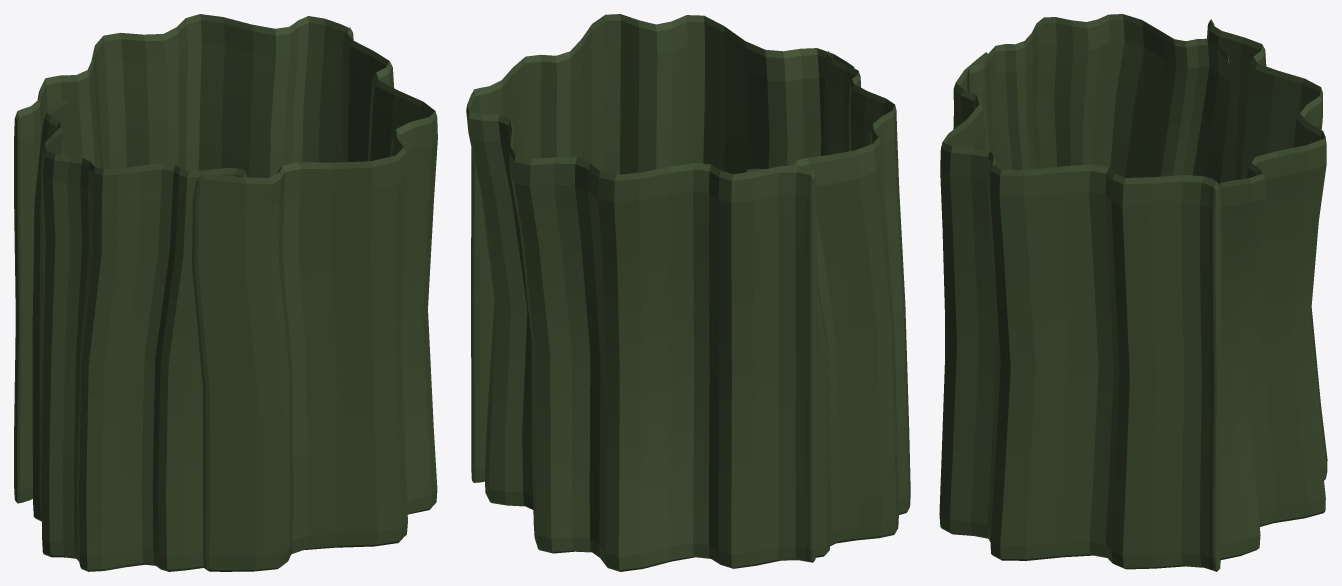
Rendered from CurvedCourigatedSteel.fbx.
The picture shows the model from 3 angles, left to right: view 1: azimuth 30°, elevation 25°; view 2: azimuth 150°, elevation 25°; view 3: azimuth 270°, elevation 25°; orthographic projection.
Parts seen in each view (by area): view 1: Curved Courigated Steel; view 2: Curved Courigated Steel; view 3: Curved Courigated Steel.
Boxes of the visible parts, x1,y1,x2,y2 form: Curved Courigated Steel: [14, 14, 437, 571]; Curved Courigated Steel: [466, 14, 910, 571]; Curved Courigated Steel: [939, 14, 1327, 571].
Size of the model in its own units: 115 by 120 by 106.
